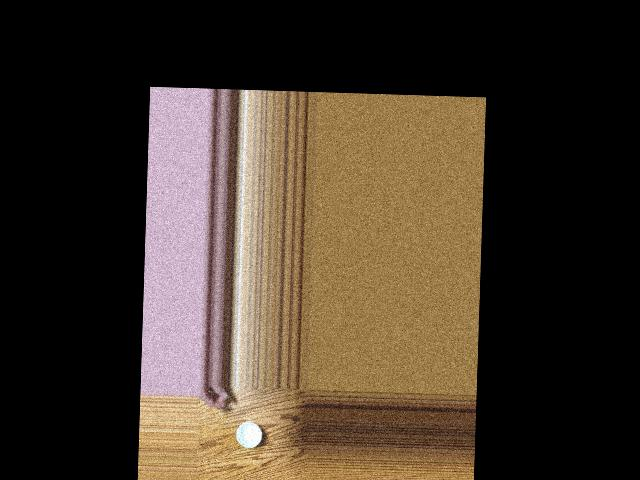cotage: (233, 416, 262, 450)
